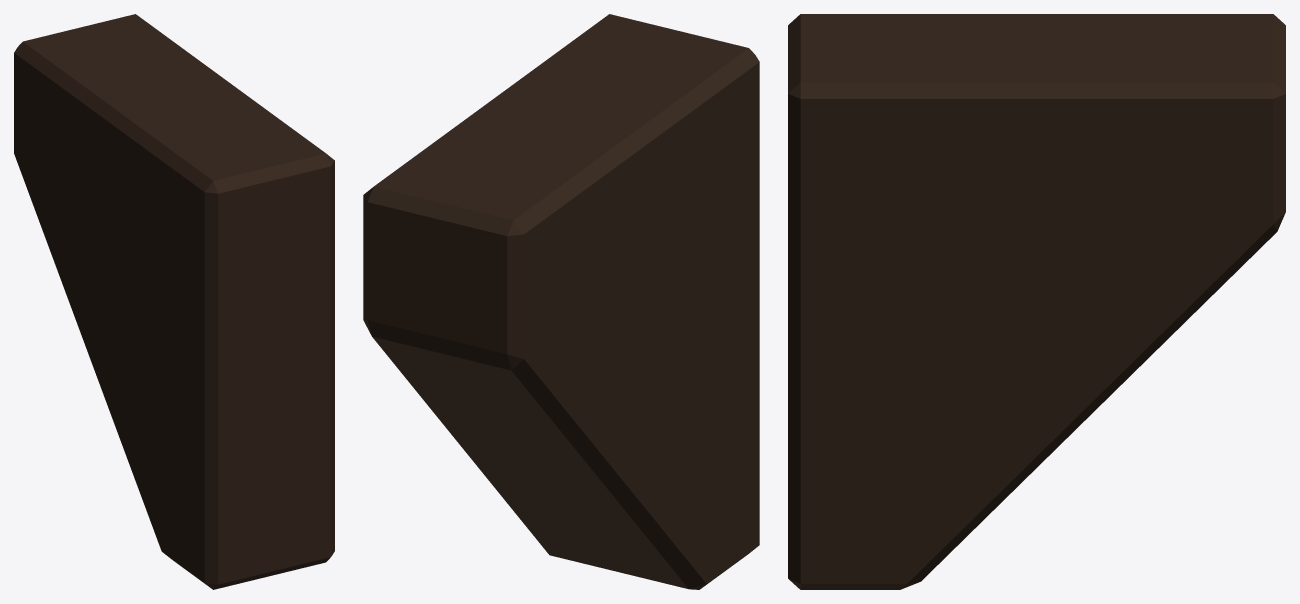
The model's file is eave_bracket.fbx.
3 renders of one model, left to right at view 1: azimuth 30°, elevation 25°; view 2: azimuth 150°, elevation 25°; view 3: azimuth 270°, elevation 25°, orthographic. The views are drawn at different scales.
Parts seen in each view (by area): view 1: eave_bracket; view 2: eave_bracket; view 3: eave_bracket.
Boxes of the visible parts, x1,y1,x2,y2 form: eave_bracket: (14,14,334,589); eave_bracket: (363,14,759,589); eave_bracket: (788,14,1285,589).
Size of the model in its own units: 60 by 180 by 160.
